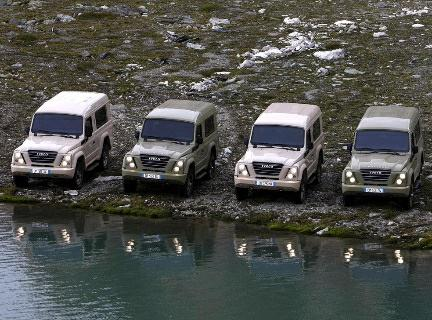依维柯-Campagnola: (8, 89, 115, 187), (123, 100, 223, 193), (228, 102, 328, 193), (338, 108, 423, 206)
